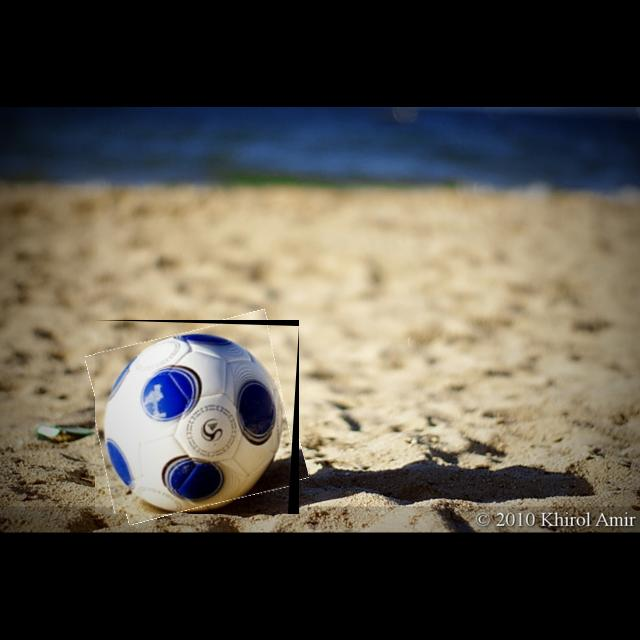Football: (95, 320, 299, 514)
